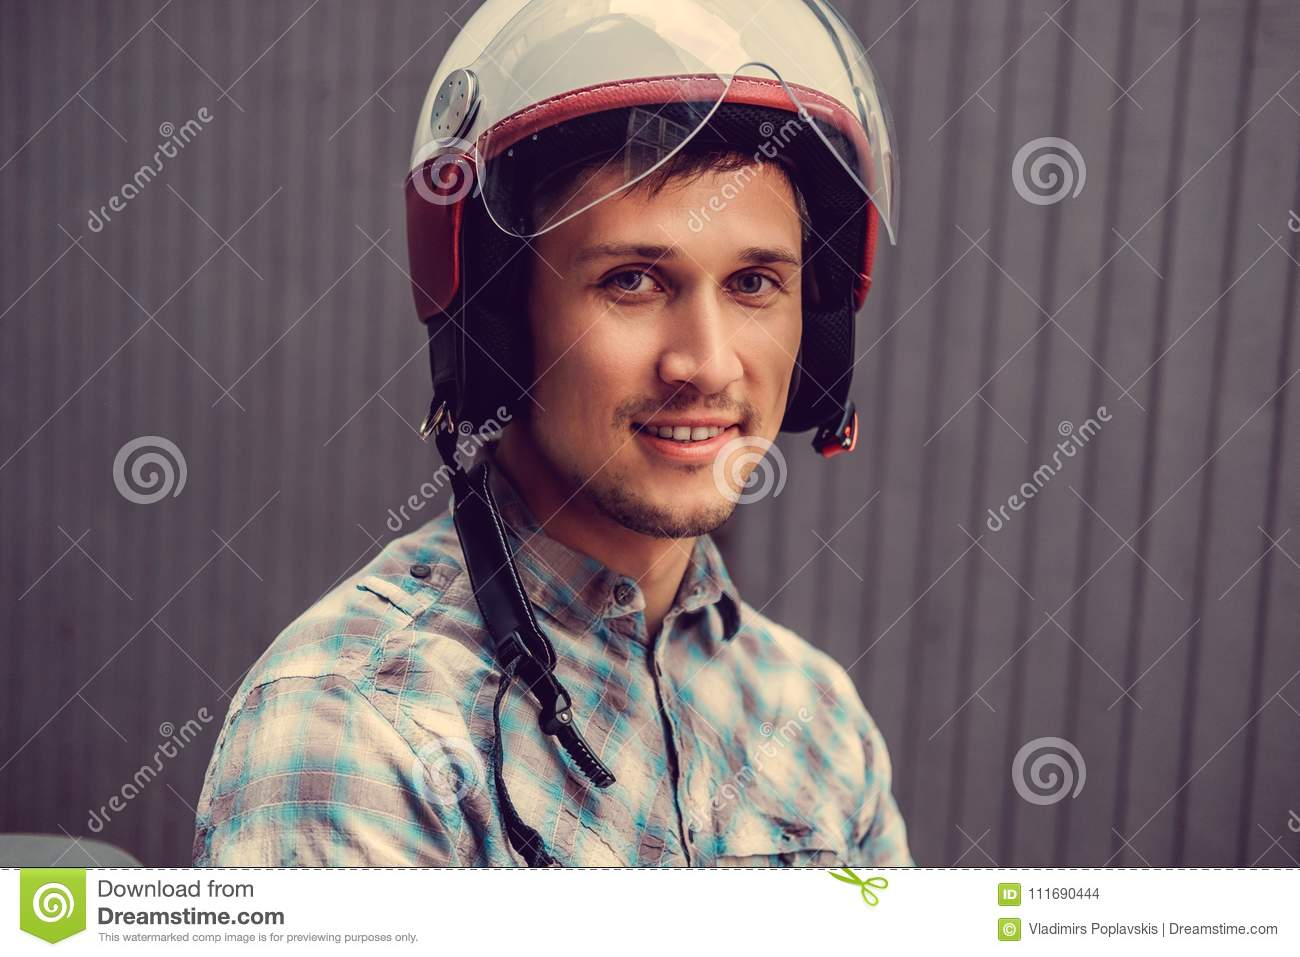helmet: (399, 7, 905, 419)
